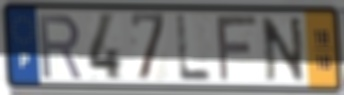4: (86, 11, 127, 83)
7: (130, 11, 169, 84)
F: (214, 13, 260, 85)
L: (175, 12, 215, 84)
N: (259, 14, 307, 84)
R: (36, 11, 85, 81)
